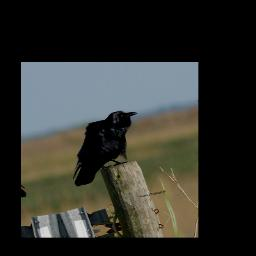Crow: (55, 107, 155, 188)
